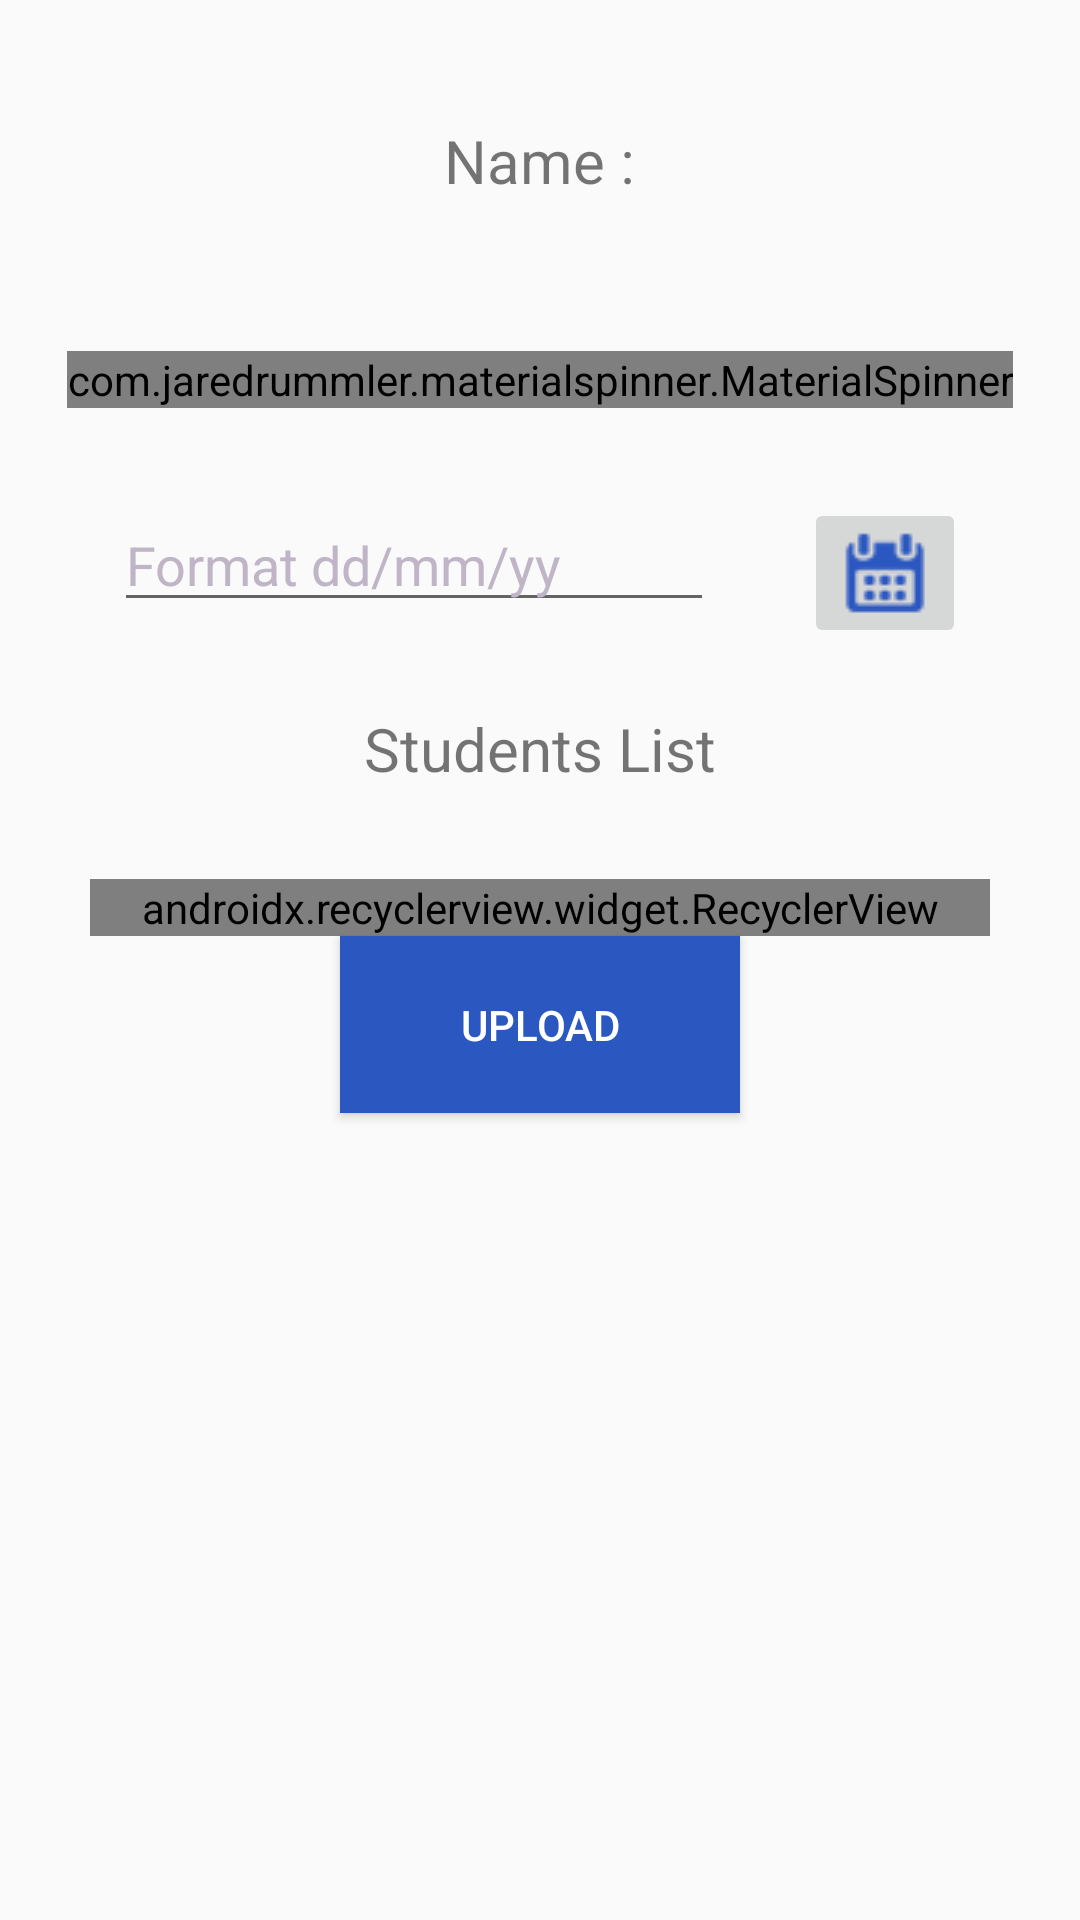

Icon click points for this 1080w x 1920h phone screenshot, format point (x, y):
calendar: point (885, 573)
